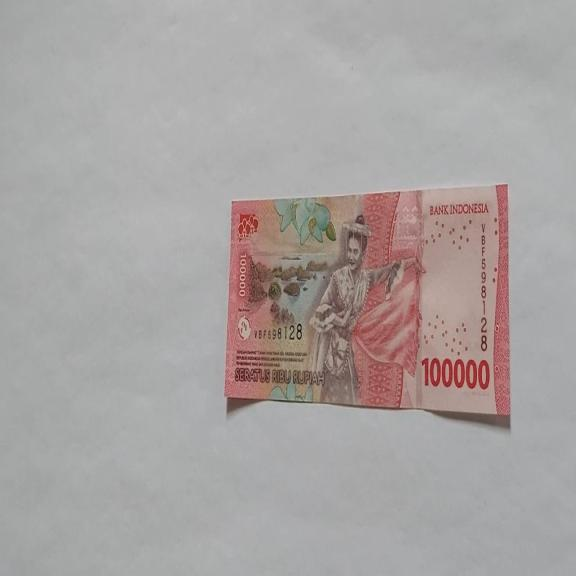Kertas: (224, 183, 510, 423), (421, 354, 490, 392)
